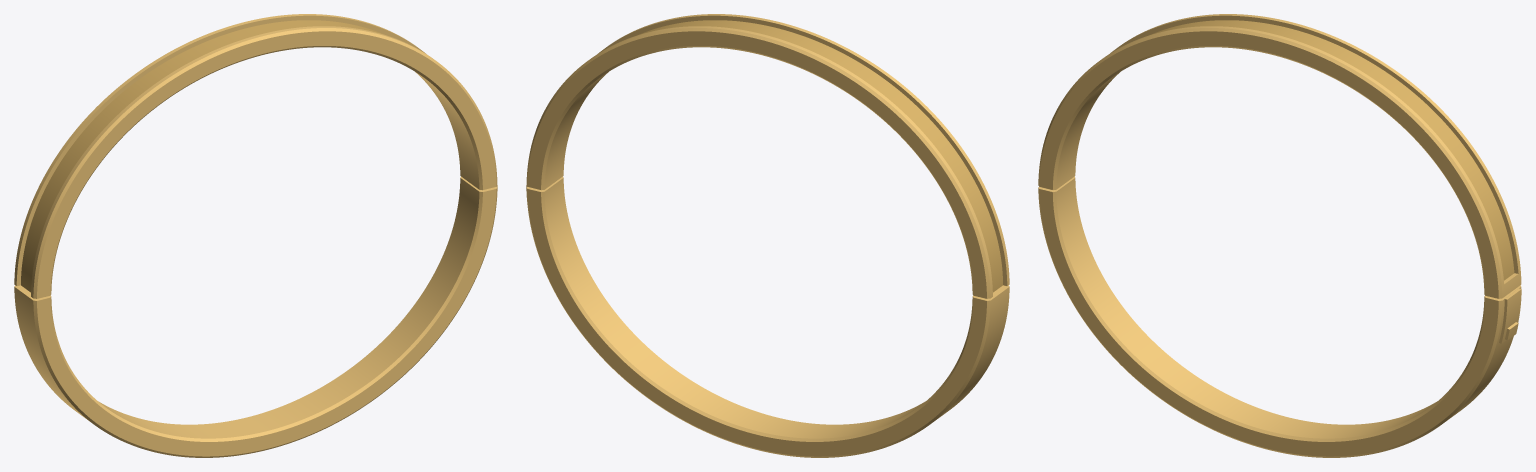
The model's file is glider-charm-bangle.obj.
3 views of the same model, side by side, from view 1: azimuth 30°, elevation 25°; view 2: azimuth 150°, elevation 25°; view 3: azimuth 330°, elevation 25° (orthographic).
Parts seen in each view (by area): view 1: BangleBand, SliderChannel; view 2: BangleBand, SliderChannel; view 3: BangleBand, SliderChannel.
Boxes of the visible parts, <box> form: BangleBand: <box>14,14,497,457</box>; SliderChannel: <box>21,20,384,292</box>; BangleBand: <box>526,14,1009,457</box>; SliderChannel: <box>639,20,1002,292</box>; BangleBand: <box>1038,14,1521,457</box>; SliderChannel: <box>1150,20,1514,280</box>.
Bounding box in the file's own units: 62.15 × 52.8 × 5.
